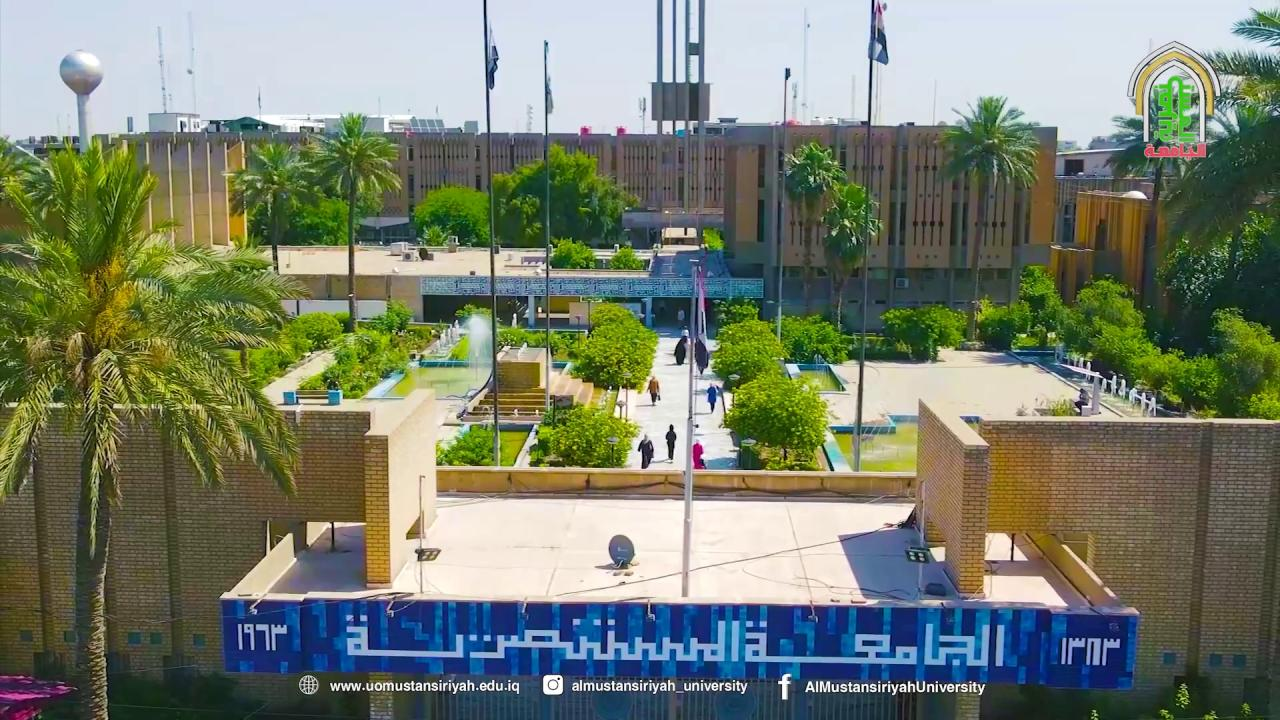fountain: (397, 311, 492, 403), (798, 354, 848, 394)
person: (638, 433, 654, 469), (665, 424, 676, 461), (692, 438, 705, 468), (647, 376, 660, 405), (716, 382, 727, 413), (707, 382, 717, 413)
tree: (0, 132, 311, 717), (489, 140, 640, 412), (1151, 5, 1279, 324), (932, 93, 1041, 345), (303, 110, 402, 333), (778, 139, 882, 316), (489, 141, 640, 251), (222, 138, 317, 274), (721, 367, 830, 470), (566, 302, 658, 421), (1062, 274, 1148, 382), (821, 181, 882, 330), (1201, 5, 1279, 115), (1209, 306, 1279, 413), (534, 400, 640, 466), (710, 316, 787, 396), (879, 302, 966, 362), (411, 183, 490, 248), (1087, 320, 1159, 391), (772, 312, 853, 367), (1128, 349, 1185, 413), (1016, 262, 1061, 329), (280, 310, 343, 351), (1230, 5, 1279, 56), (712, 295, 758, 333), (549, 235, 595, 270)
